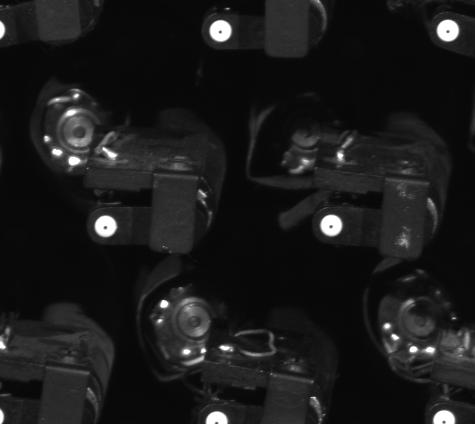fiber: (433, 16, 465, 50), (90, 211, 123, 242), (203, 18, 238, 45), (317, 211, 348, 237), (199, 405, 237, 424), (427, 406, 463, 424)
